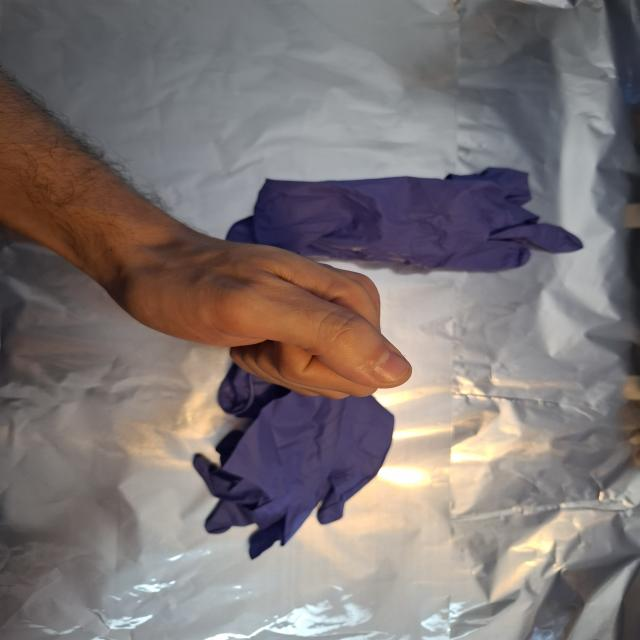glove_off: (104, 222, 416, 402)
